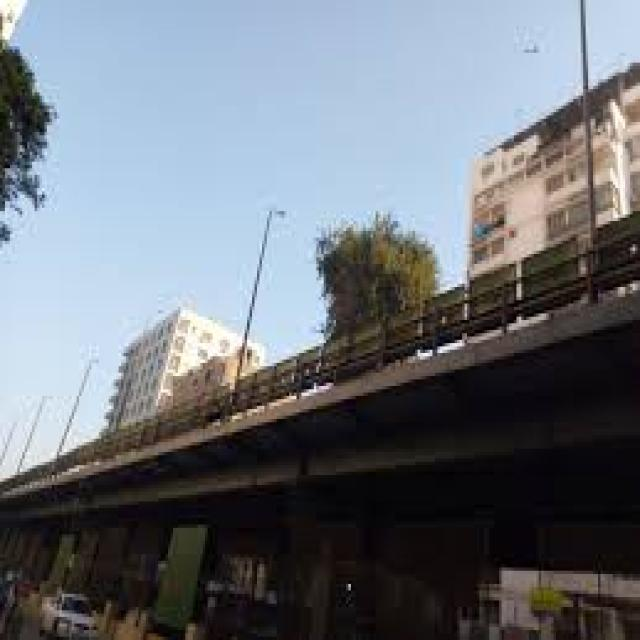Street Light: (227, 205, 287, 422), (49, 356, 102, 468)
